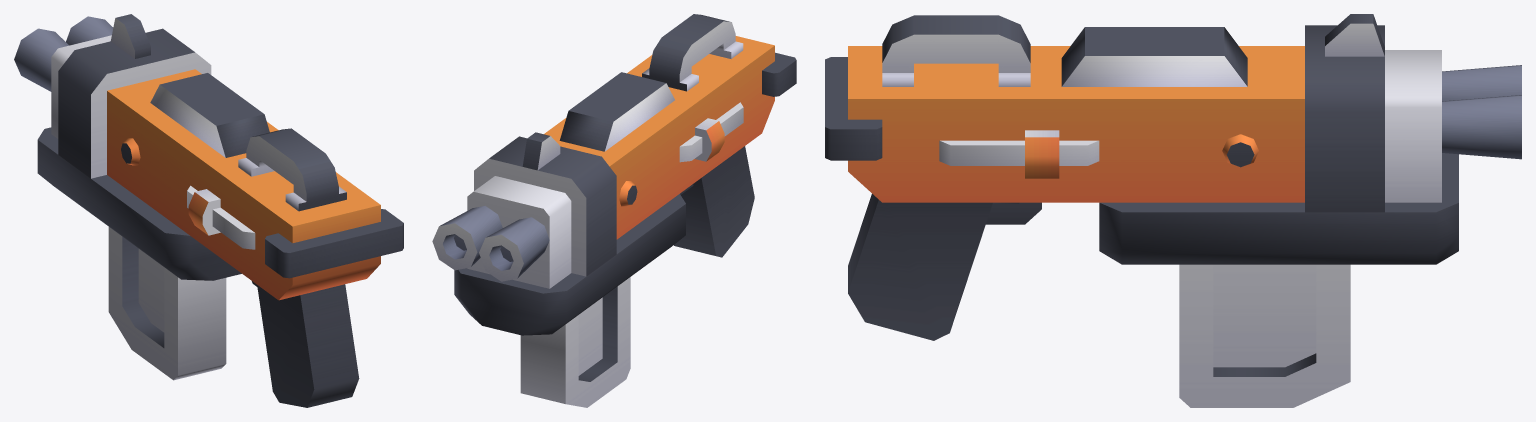
The model's file is blaster-j.glb.
3 views of the same model, side by side, from view 1: azimuth 30°, elevation 25°; view 2: azimuth 150°, elevation 25°; view 3: azimuth 270°, elevation 25° (orthographic). The views are drawn at different scales.
Parts seen in each view (by area): view 1: blaster-j, magazine; view 2: blaster-j, magazine; view 3: blaster-j, magazine.
Boxes of the visible parts, x1,y1,x2,y2 form: blaster-j: (14, 14, 403, 407); magazine: (108, 227, 226, 380); blaster-j: (432, 14, 796, 335); magazine: (520, 277, 630, 407); blaster-j: (825, 14, 1521, 340); magazine: (1179, 264, 1350, 407).
Size of the model in its own units: 0.155 by 0.3619 by 0.61.
Materials: 1 (1 with a texture image).
